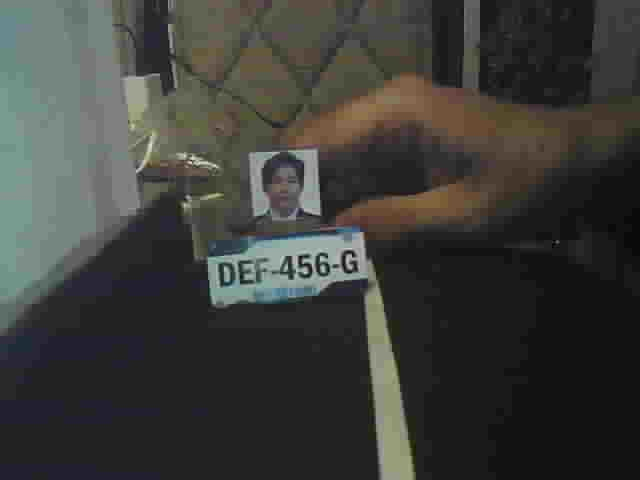PLACA: (204, 226, 368, 310)
ROSTRO: (248, 147, 321, 221)
